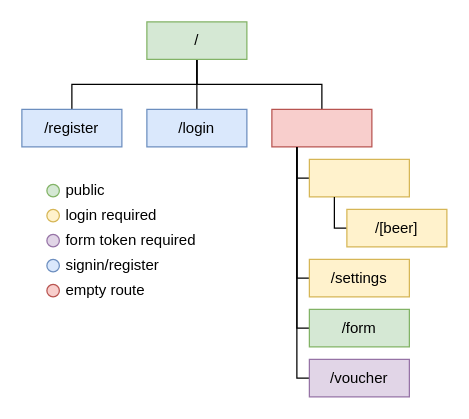
Some shapes in this 469 by 419 pixel diagram are drawn without their labels. Each missing label, with the box of its shape:
/[company]: (271, 108, 372, 147)
/dashboard: (308, 158, 409, 197)
